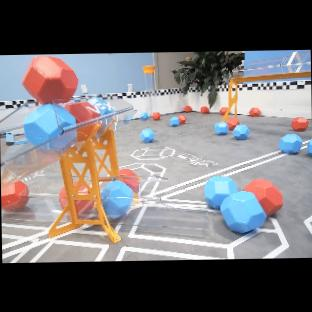Med_goal: (0, 96, 208, 242)
Parking - B: (5, 132, 29, 145)
V5_BLUE: (23, 103, 77, 145), (204, 176, 237, 209), (43, 129, 79, 149), (86, 97, 116, 116), (278, 133, 302, 153), (232, 124, 249, 140), (214, 120, 229, 135), (140, 128, 154, 142), (170, 116, 180, 126), (141, 112, 147, 119)
V5_RED: (243, 178, 282, 216), (290, 115, 308, 131), (226, 117, 240, 130), (249, 107, 259, 116), (177, 114, 186, 124), (152, 112, 160, 120), (200, 106, 208, 113), (219, 107, 227, 114), (184, 105, 191, 112)
blueingoal: (100, 180, 133, 219)
redingoal: (1, 181, 28, 211), (64, 101, 99, 123), (75, 200, 94, 215), (77, 125, 94, 140), (58, 186, 67, 209), (79, 183, 89, 192)
